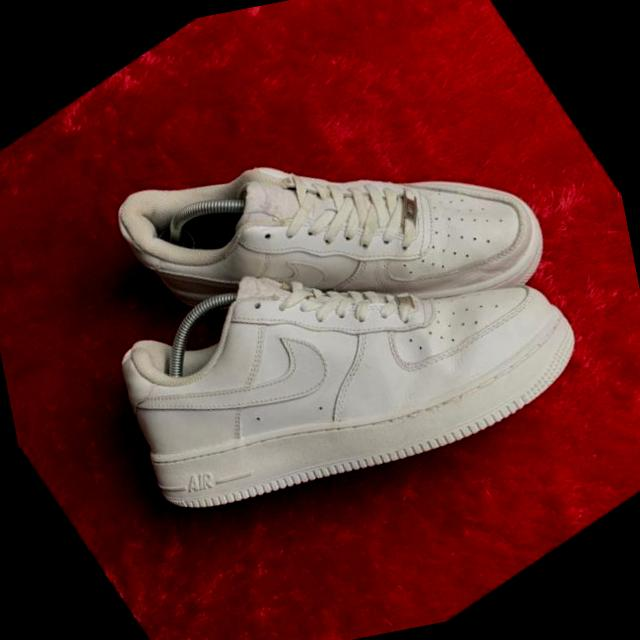nike_fake_airforce: (41, 114, 628, 628), (72, 0, 594, 472)
